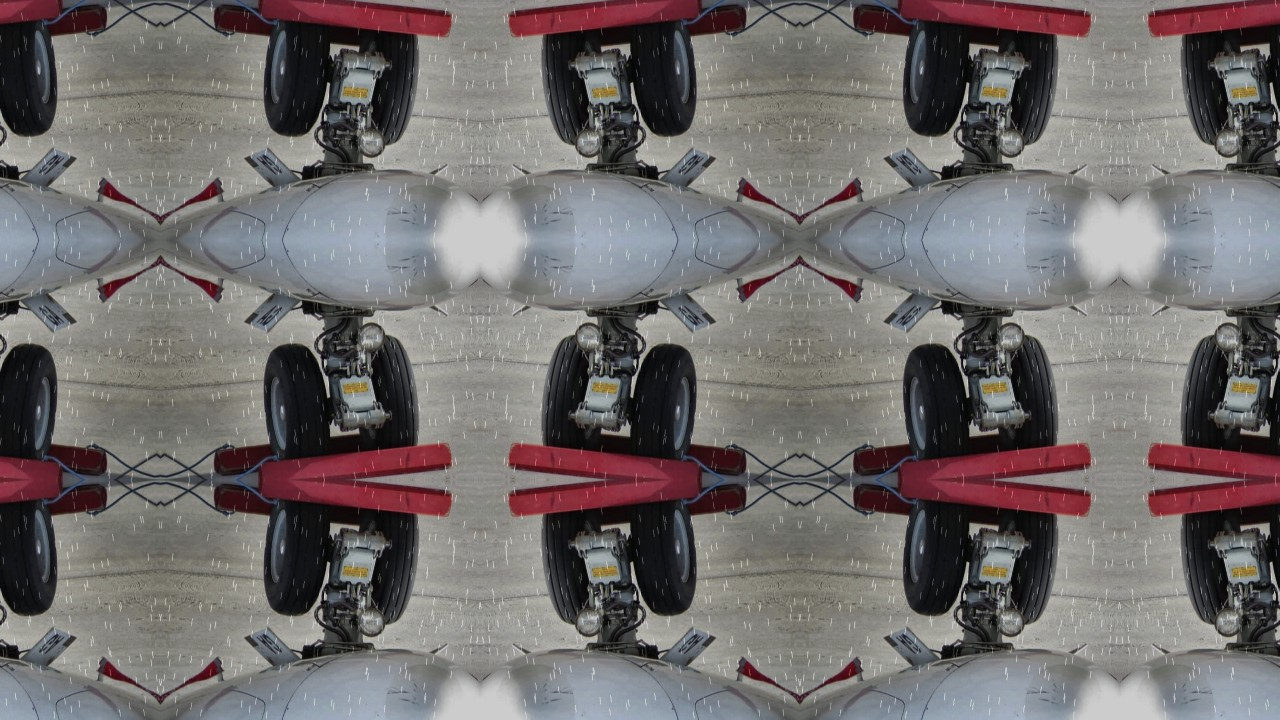chock: (253, 0, 456, 46), (504, 0, 707, 46), (893, 0, 1096, 46), (253, 434, 456, 480), (504, 434, 707, 480), (893, 434, 1096, 480), (253, 480, 456, 526), (504, 480, 707, 526), (893, 480, 1096, 526), (210, 2, 379, 55), (581, 2, 750, 55), (850, 2, 1019, 55), (210, 425, 379, 478), (581, 425, 750, 478), (850, 425, 1019, 478), (210, 482, 379, 535), (581, 482, 750, 535), (850, 482, 1019, 535), (1144, 0, 1280, 46), (1144, 434, 1280, 480), (1144, 480, 1280, 526), (0, 2, 110, 55), (0, 425, 110, 478), (0, 482, 110, 535), (1221, 2, 1280, 55), (1221, 425, 1280, 478), (1221, 482, 1280, 535), (0, 0, 67, 46), (0, 434, 67, 480), (0, 480, 67, 526)
wheel: (258, 17, 334, 142), (626, 17, 702, 142), (898, 17, 974, 142), (258, 338, 334, 463), (626, 338, 702, 463), (898, 338, 974, 463), (258, 497, 334, 622), (626, 497, 702, 622), (898, 497, 974, 622), (353, 28, 423, 151), (537, 28, 607, 151), (993, 28, 1063, 151), (1177, 28, 1247, 151), (353, 329, 423, 452), (537, 329, 607, 452), (993, 329, 1063, 452), (1177, 329, 1247, 452), (353, 508, 423, 631), (537, 508, 607, 631), (993, 508, 1063, 631), (1177, 508, 1247, 631), (0, 17, 62, 142), (0, 338, 62, 463), (0, 497, 62, 622), (1266, 17, 1280, 142), (1266, 338, 1280, 463), (1266, 497, 1280, 622)
